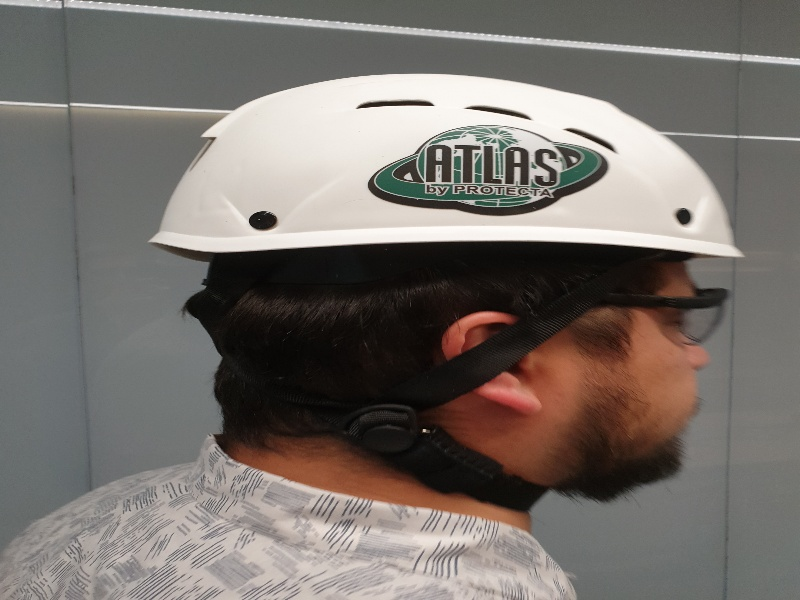Baret: (150, 74, 744, 257)
Gozluk: (580, 286, 734, 349)
